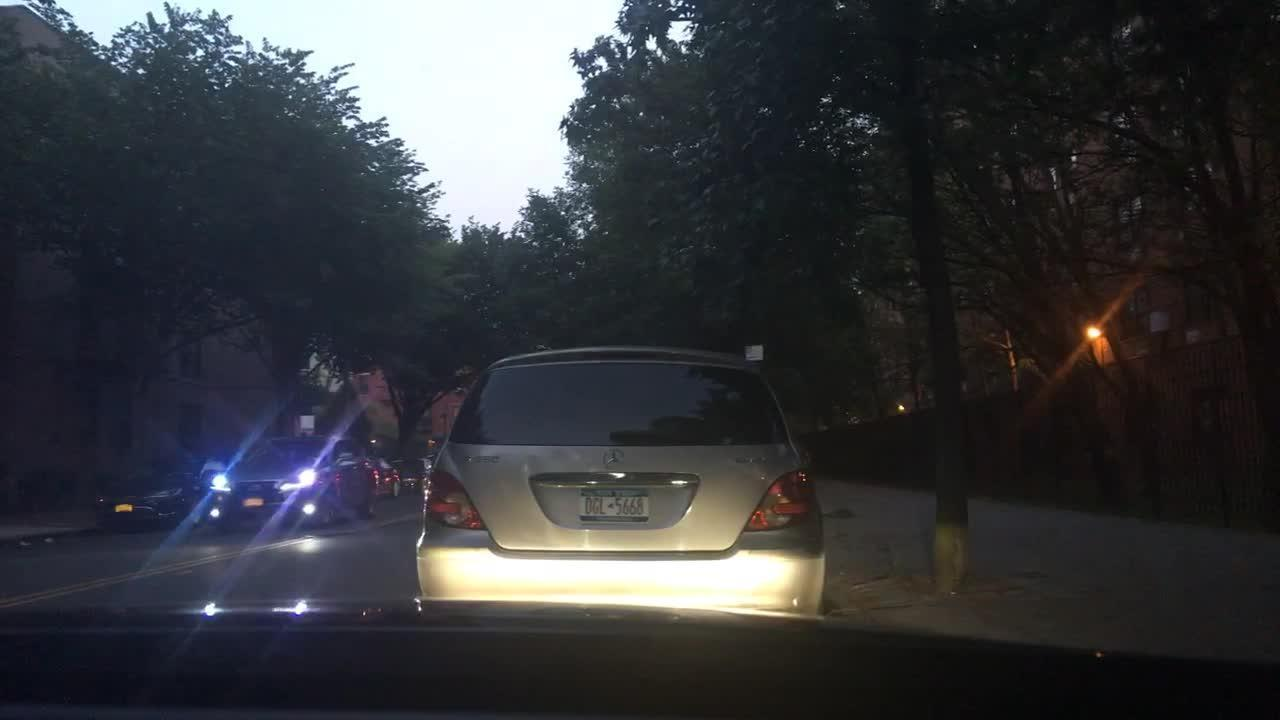Mercedes: (596, 445, 636, 470)
